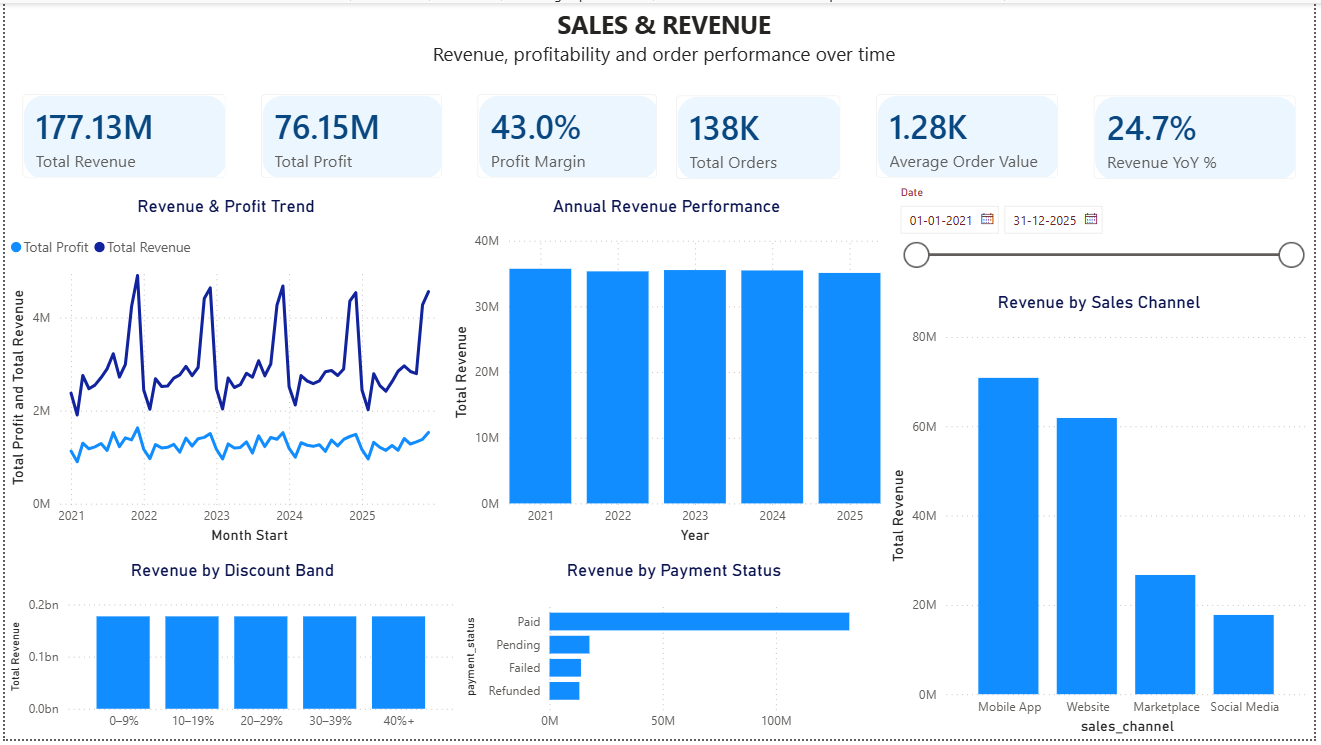

What the dashboard file says about the page in this screenshot:
{"tool":"powerbi","page":{"name":"Sales & Revenue","canvas":[1280,720],"ordinal":1},"visuals":[{"type":"textbox","box":[10,0,1270,72.5],"z":0},{"type":"cardVisual","fields":{"Data":["_Measure.Total Revenue"]},"box":[0,72.5,233.8,116.2],"z":1000},{"type":"cardVisual","fields":{"Data":["_Measure.Total Orders"]},"box":[640,73.8,195,116.2],"z":2000},{"type":"cardVisual","fields":{"Data":["_Measure.Total Profit"]},"box":[233.8,72.5,211.2,116.2],"z":3000},{"type":"cardVisual","fields":{"Data":["_Measure.Revenue YoY %"]},"box":[1047.5,73.8,232.5,116.2],"z":4000},{"type":"cardVisual","fields":{"Data":["_Measure.Average Order Value"]},"box":[835,72.5,212.5,116.2],"z":5000},{"type":"cardVisual","fields":{"Data":["_Measure.Profit Margin"]},"box":[445,72.5,210,116.2],"z":6000},{"type":"lineChart","title":"Revenue & Profit Trend","fields":{"Category":["DateTable.Month Start"],"Y":["_Measure.Total Profit","_Measure.Total Revenue"]},"box":[0,188.8,432.5,345],"z":7000},{"type":"clusteredColumnChart","title":"Annual Revenue Performance","fields":{"Category":["DateTable.Year"],"Y":["_Measure.Total Revenue"]},"box":[432.5,188.8,428.8,345],"z":8000},{"type":"clusteredColumnChart","title":"Revenue by Sales Channel","fields":{"Category":["ecommerce_sales_customer_analytics_150k.sales_channel"],"Y":["_Measure.Total Revenue"]},"box":[861.2,282.5,418.8,437.5],"z":9000},{"type":"barChart","title":"Revenue by Payment Status","fields":{"Category":["ecommerce_sales_customer_analytics_150k.payment_status"],"Y":["_Measure.Total Revenue"]},"box":[445,543.8,418.8,176.2],"z":10000},{"type":"clusteredColumnChart","title":"Revenue by Discount Band","fields":{"Category":["order_items.Discount Band"],"Y":["_Measure.Total Revenue"]},"box":[0,543.8,445,176.2],"z":11000},{"type":"slicer","title":"Date","fields":{"Values":["DateTable.Date"]},"box":[863.8,173.8,416.2,108.8],"z":12000}]}

Visuals, with their boxes in screenshot pixels (x1, y1, x2, y2), scaled from the page's 1280x720 canvas onto the 1321x745 screenshot:
textbox: box=[10, 0, 1320, 75]
cardVisual - _Measure.Total Revenue: box=[0, 75, 241, 195]
cardVisual - _Measure.Total Orders: box=[660, 76, 862, 197]
cardVisual - _Measure.Total Profit: box=[241, 75, 459, 195]
cardVisual - _Measure.Revenue YoY %: box=[1081, 76, 1320, 197]
cardVisual - _Measure.Average Order Value: box=[862, 75, 1081, 195]
cardVisual - _Measure.Profit Margin: box=[459, 75, 676, 195]
"Revenue & Profit Trend" lineChart: box=[0, 195, 446, 552]
"Annual Revenue Performance" clusteredColumnChart: box=[446, 195, 889, 552]
"Revenue by Sales Channel" clusteredColumnChart: box=[889, 292, 1320, 744]
"Revenue by Payment Status" barChart: box=[459, 563, 891, 744]
"Revenue by Discount Band" clusteredColumnChart: box=[0, 563, 459, 744]
"Date" slicer: box=[891, 180, 1320, 292]
